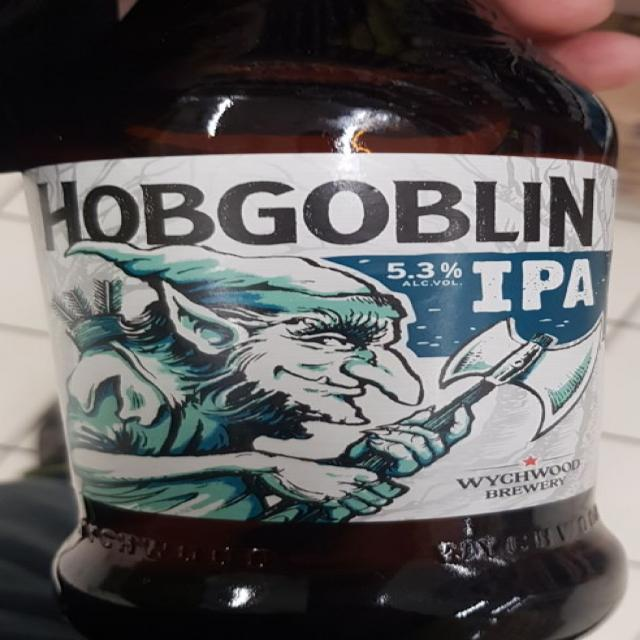Hobgoblin IPA: (1, 0, 639, 640)
